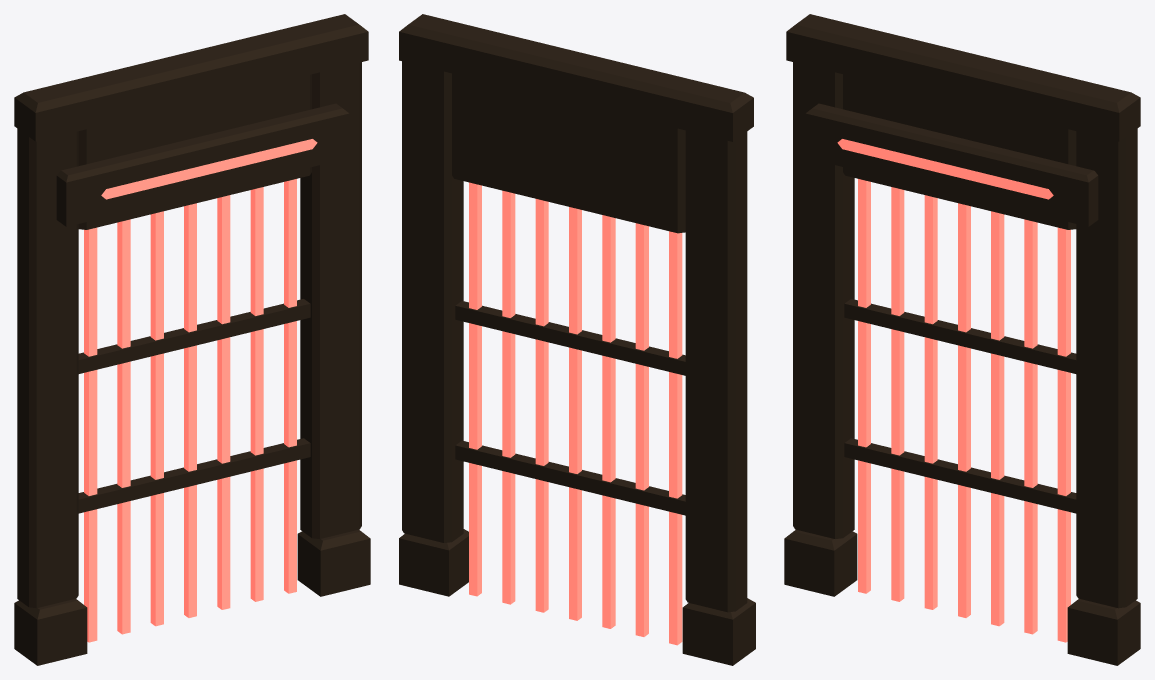
The model's file is lockdown_gate_hard.glb.
3 views of the same model, side by side, from view 1: azimuth 30°, elevation 25°; view 2: azimuth 150°, elevation 25°; view 3: azimuth 330°, elevation 25° (orthographic).
Parts seen in each view (by area): view 1: Frame, Bars_Closed; view 2: Frame, Bars_Closed; view 3: Frame, Bars_Closed.
Boxes of the visible parts, bbox=[...] form: Frame: bbox=[14, 14, 370, 665]; Bars_Closed: bbox=[78, 139, 317, 642]; Frame: bbox=[399, 14, 755, 665]; Bars_Closed: bbox=[455, 182, 685, 645]; Frame: bbox=[784, 14, 1140, 665]; Bars_Closed: bbox=[837, 139, 1076, 642].
Bounding box in the file's own units: 2 × 3.2 × 0.296.
